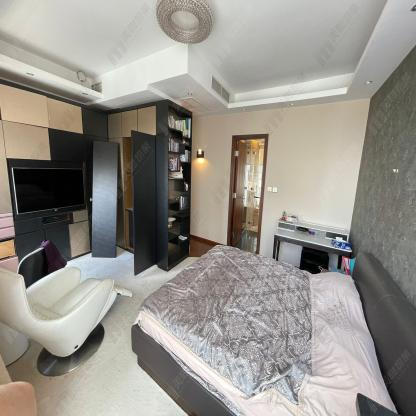Bed: (131, 242, 416, 416)
Desk: (267, 202, 353, 270)
